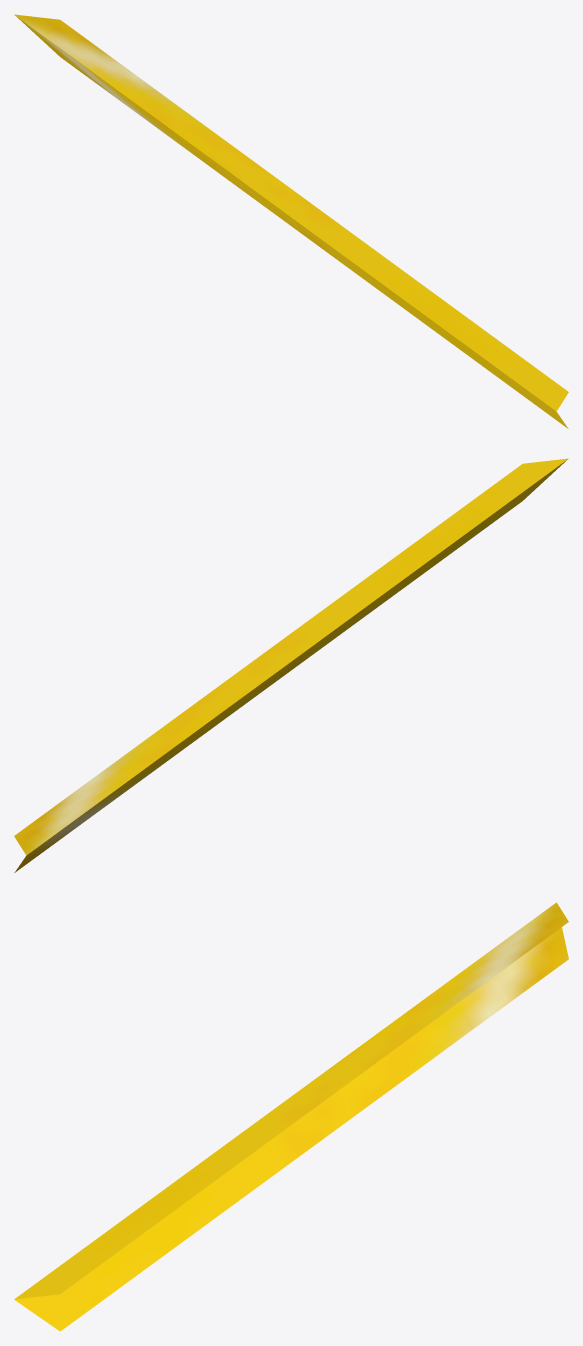
File: Zierleiste [Gelb]_112.glb
3 renders of one model, top to bottom at view 1: azimuth 30°, elevation 25°; view 2: azimuth 150°, elevation 25°; view 3: azimuth 330°, elevation 25°, orthographic.
Parts seen in each view (by area): view 1: polySurfaceShape1071; view 2: polySurfaceShape1071; view 3: polySurfaceShape1071.
Part boxes in pixels (x1,y1,x2,y2): polySurfaceShape1071: [14, 14, 568, 428]; polySurfaceShape1071: [14, 458, 568, 872]; polySurfaceShape1071: [14, 902, 568, 1331].
Size of the model in its own units: 0.0333 by 0.0406 by 1.07.
1 material, 1 textured.
